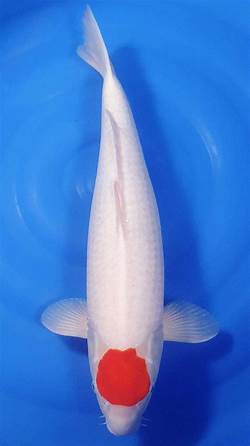sun: (43, 4, 219, 435)
